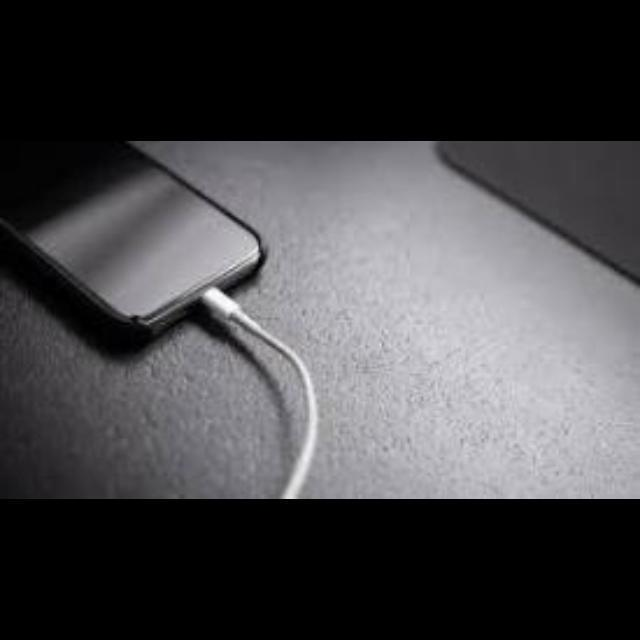phone: (0, 140, 408, 398)
